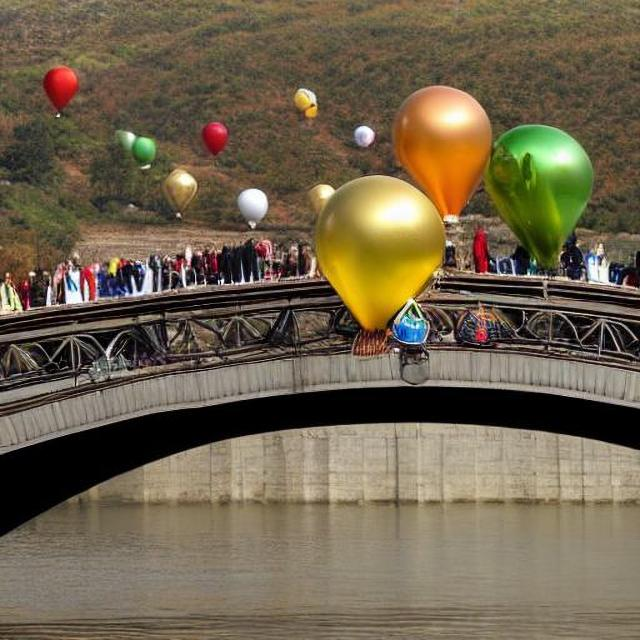balloon: (320, 172, 444, 331), (493, 120, 588, 266), (400, 92, 491, 200), (34, 63, 82, 119), (110, 123, 163, 164), (156, 171, 200, 205), (232, 188, 269, 228), (196, 118, 231, 158), (302, 176, 330, 212), (291, 86, 318, 117), (347, 118, 369, 150)
